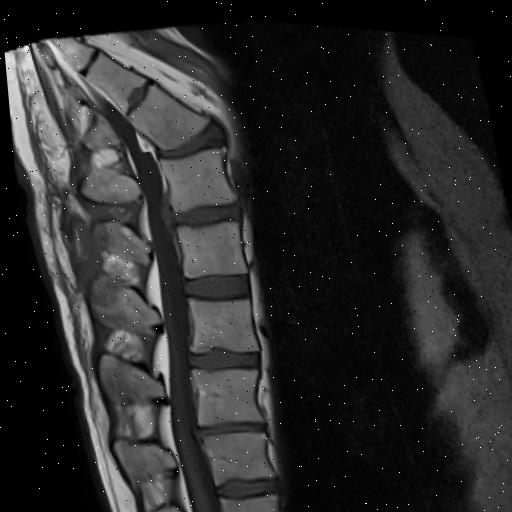L1: (193, 428, 263, 481)
L2: (183, 365, 253, 420)
L3: (181, 292, 248, 346)
L4: (171, 218, 239, 274)
L5: (156, 144, 230, 209)
S1: (127, 81, 207, 147)
